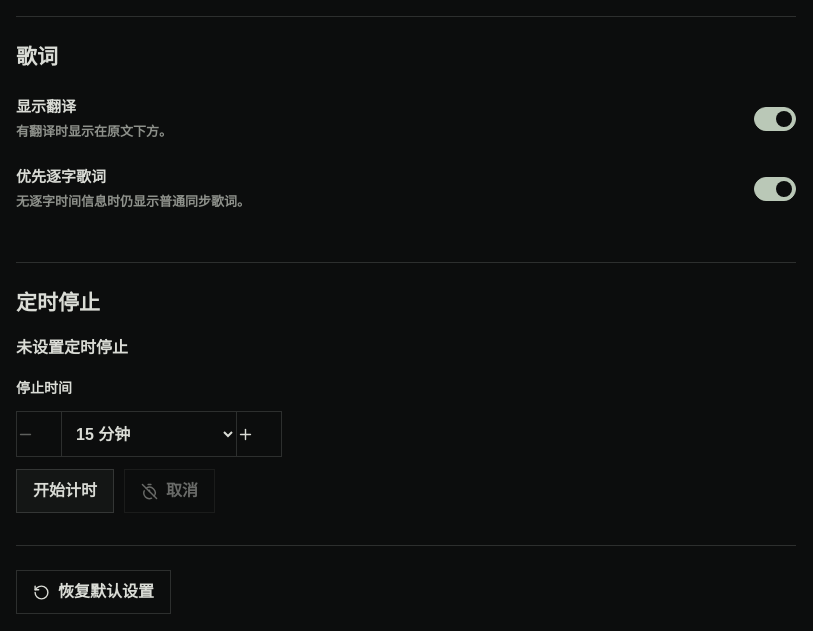
it: settings experience › starts and cancels a duration timer without persisting it
(page scrolled)
Click the button "开始计时" at [65, 491], box [16,469,114,513]
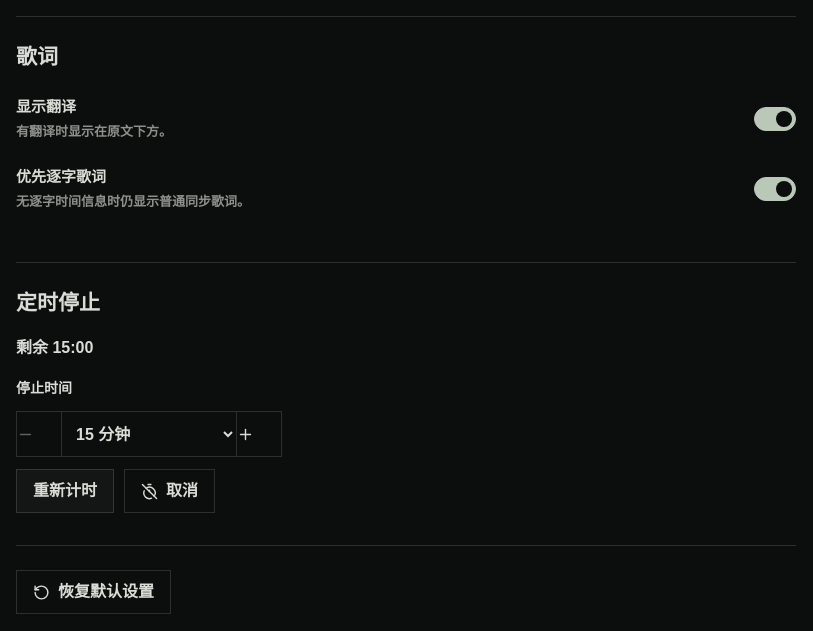
Expected: the text "剩余 15:00" is shown, [16,339,93,356]
Click the button "取消" at [170, 491], box [124,469,215,513]
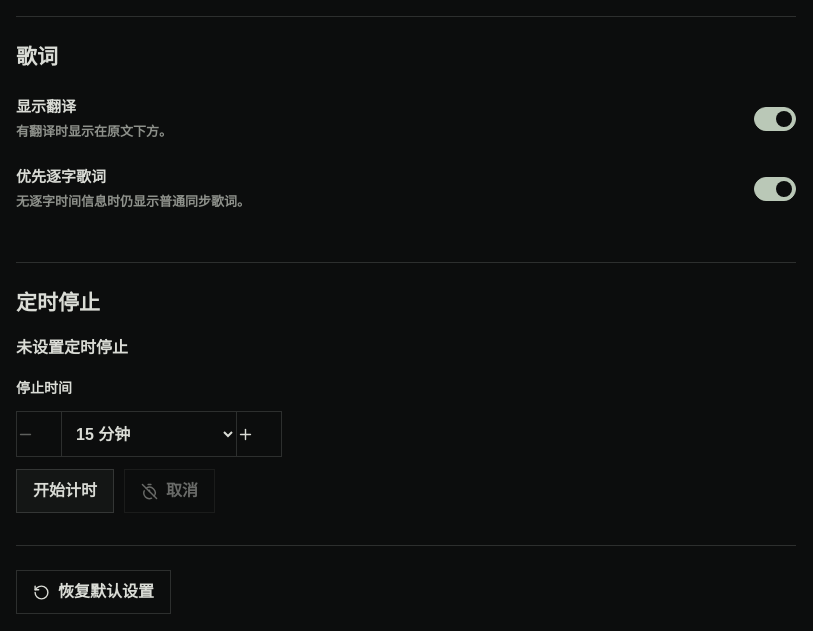
Expected: the text "未设置定时停止" is shown, [16,339,128,356]
